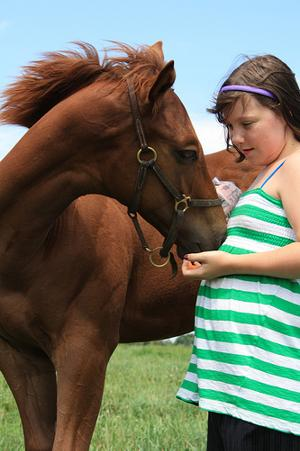person: (181, 52, 299, 451)
